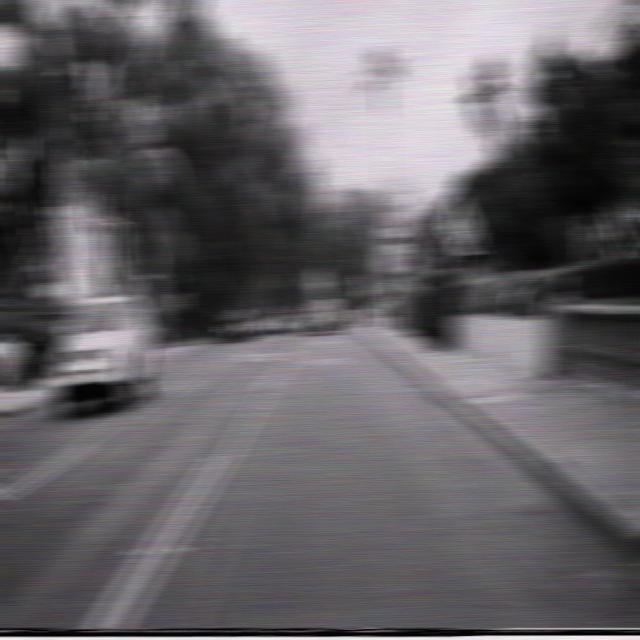pedestrianCrossing: (440, 195, 478, 254)
